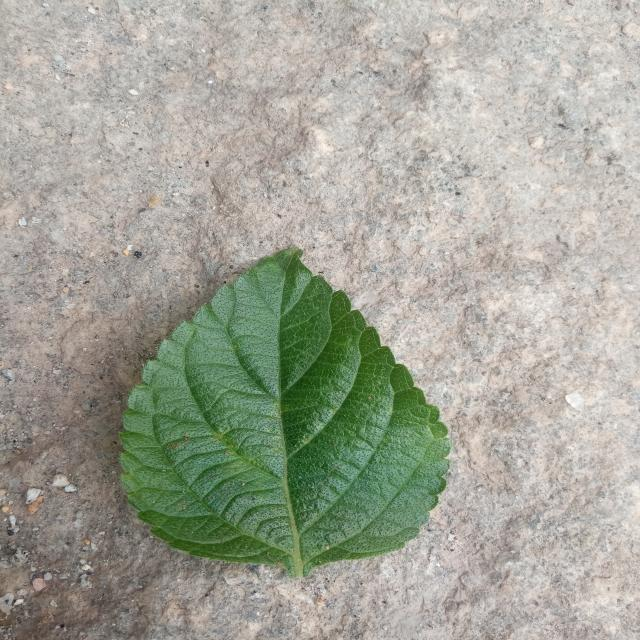Lantana: (120, 249, 452, 578)
